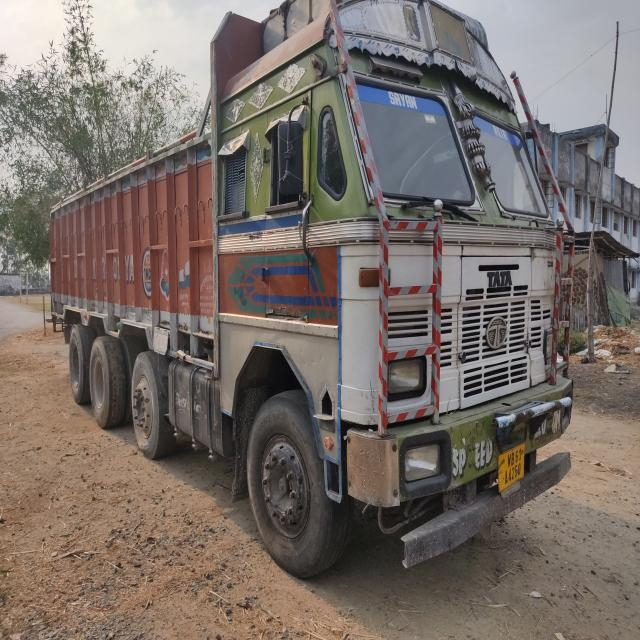Truck: (47, 63, 478, 640)
